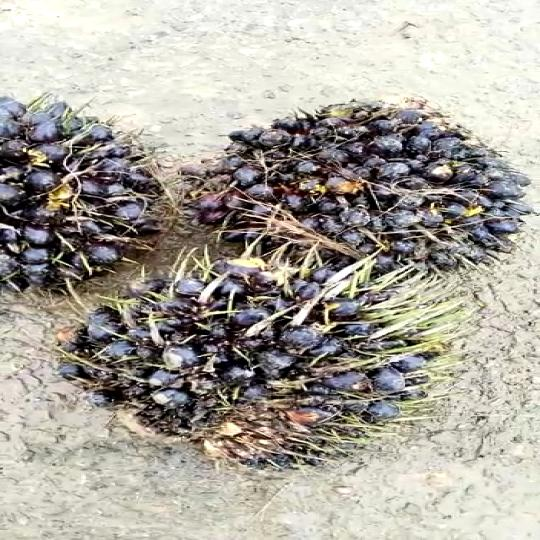mentah: (84, 249, 443, 475), (185, 109, 534, 287), (0, 97, 173, 272)
